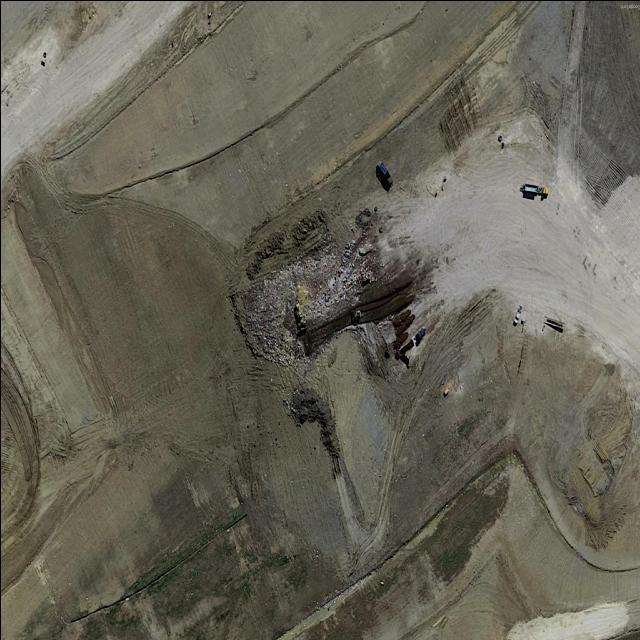dump_site: (233, 222, 385, 387)
